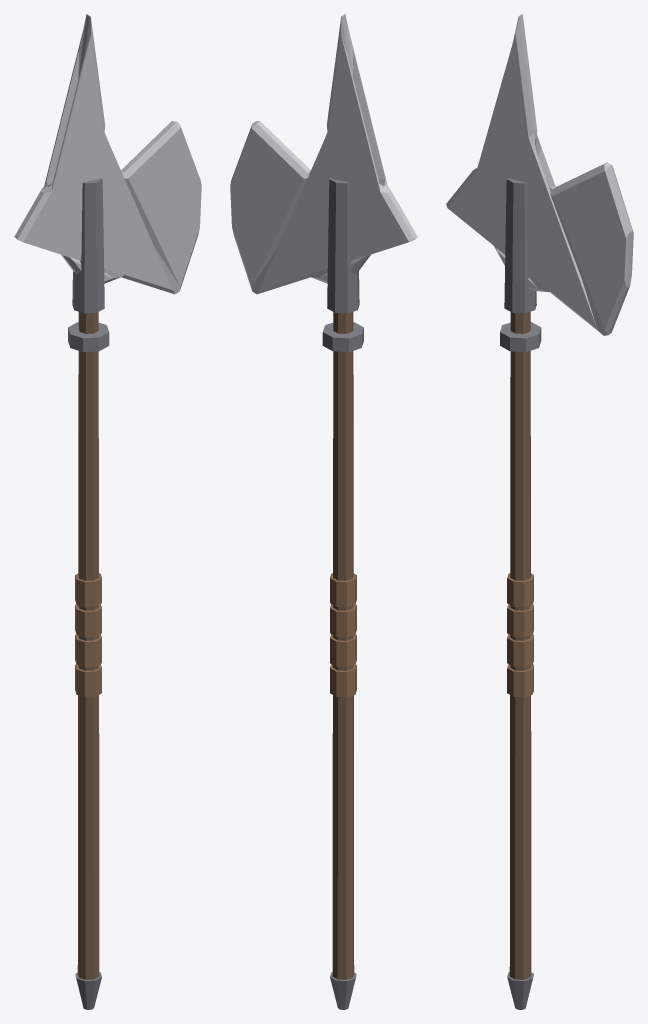
The model's file is alabarda.glb.
3 views of the same model, side by side, from view 1: azimuth 30°, elevation 25°; view 2: azimuth 150°, elevation 25°; view 3: azimuth 330°, elevation 25° (orthographic).
Parts seen in each view (by area): view 1: alabarda; view 2: alabarda; view 3: alabarda.
Boxes of the visible parts, left/top/right/bottom form: alabarda: left=14, top=14, right=201, bottom=1009; alabarda: left=230, top=14, right=417, bottom=1009; alabarda: left=446, top=14, right=633, bottom=1009.
Bounding box in the file's own units: 0.4151 × 2.15 × 0.0836.
